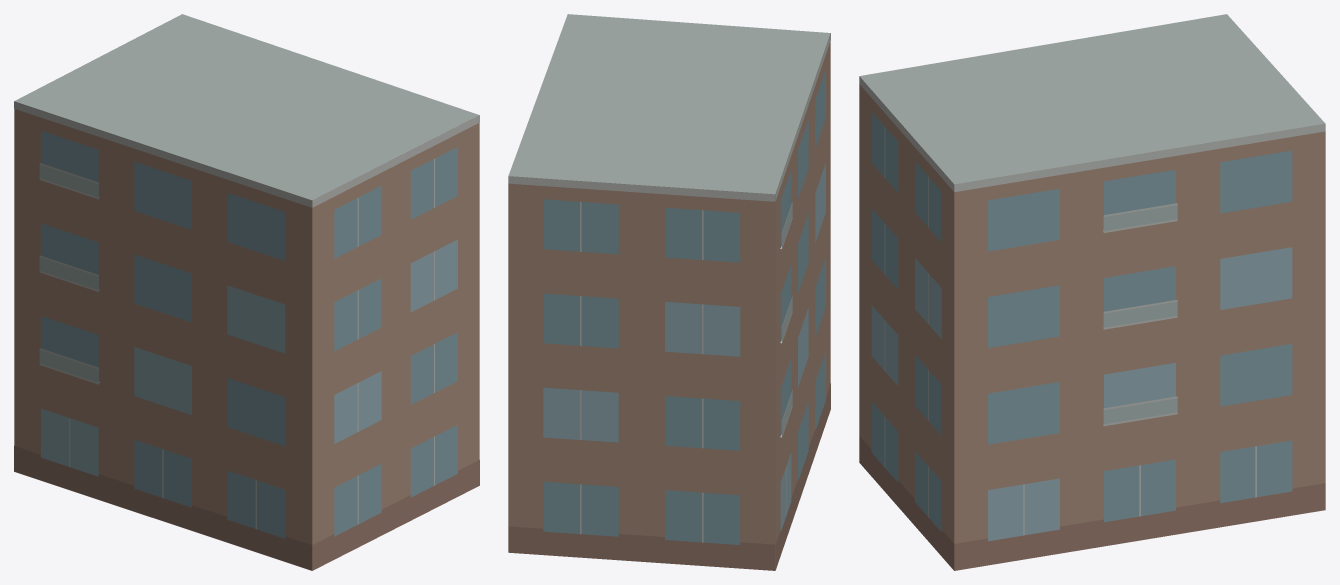
Rendered from survey-upis-32882395.glb.
The picture shows the model from 3 angles, left to right: view 1: azimuth 30°, elevation 25°; view 2: azimuth 150°, elevation 25°; view 3: azimuth 270°, elevation 25°; orthographic projection. The views are drawn at different scales.
Parts seen in each view (by area): view 1: survey-upis-32882395.tmp; view 2: survey-upis-32882395.tmp; view 3: survey-upis-32882395.tmp.
Boxes of the visible parts, x1,y1,x2,y2 form: survey-upis-32882395.tmp: (14, 14, 479, 570); survey-upis-32882395.tmp: (508, 14, 830, 570); survey-upis-32882395.tmp: (859, 14, 1325, 570).
Size of the model in its own units: 11.55 by 12.2 by 13.35.
